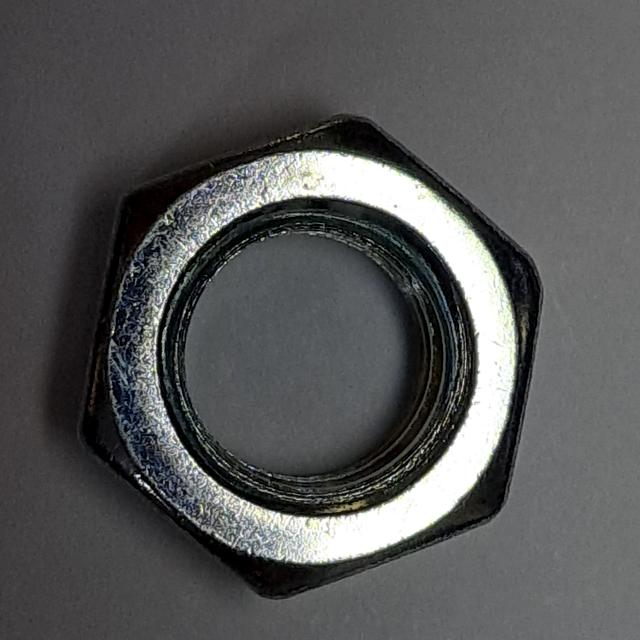Excellent: (57, 100, 561, 613)
